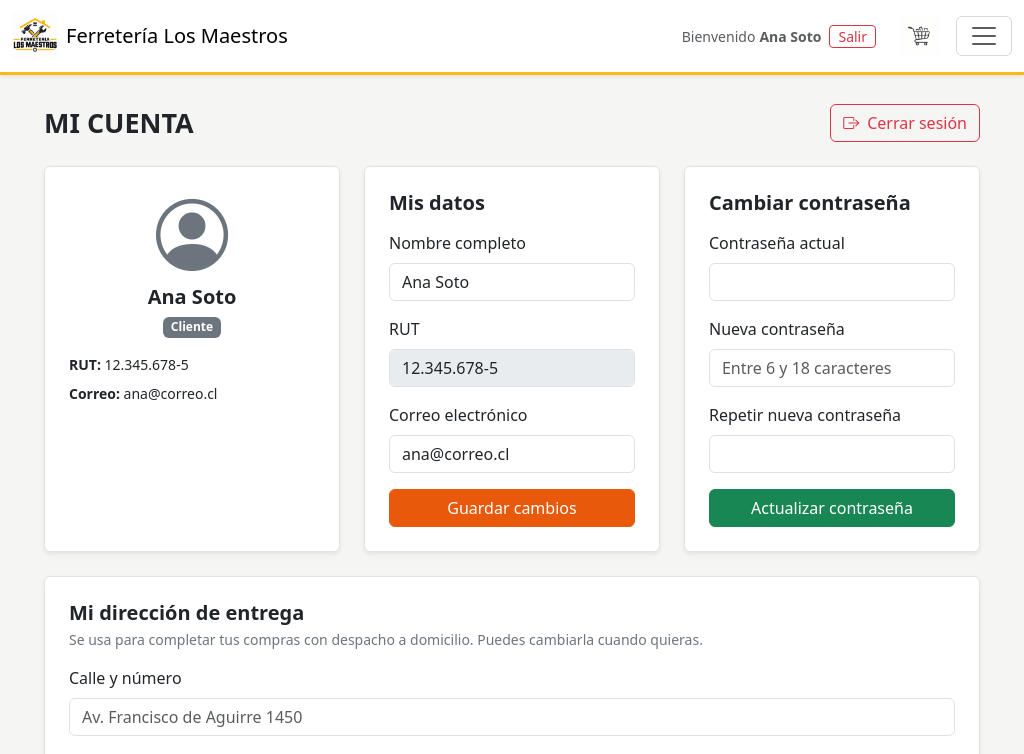
Test: Mi cuenta › no deja usar el correo de otra cuenta
This screenshot has width=1024, height=754.
Replace the text in the field labelled "Correo electrónico" with "admin@losmaestros.cl" at (512, 454), box [389,435,635,473]
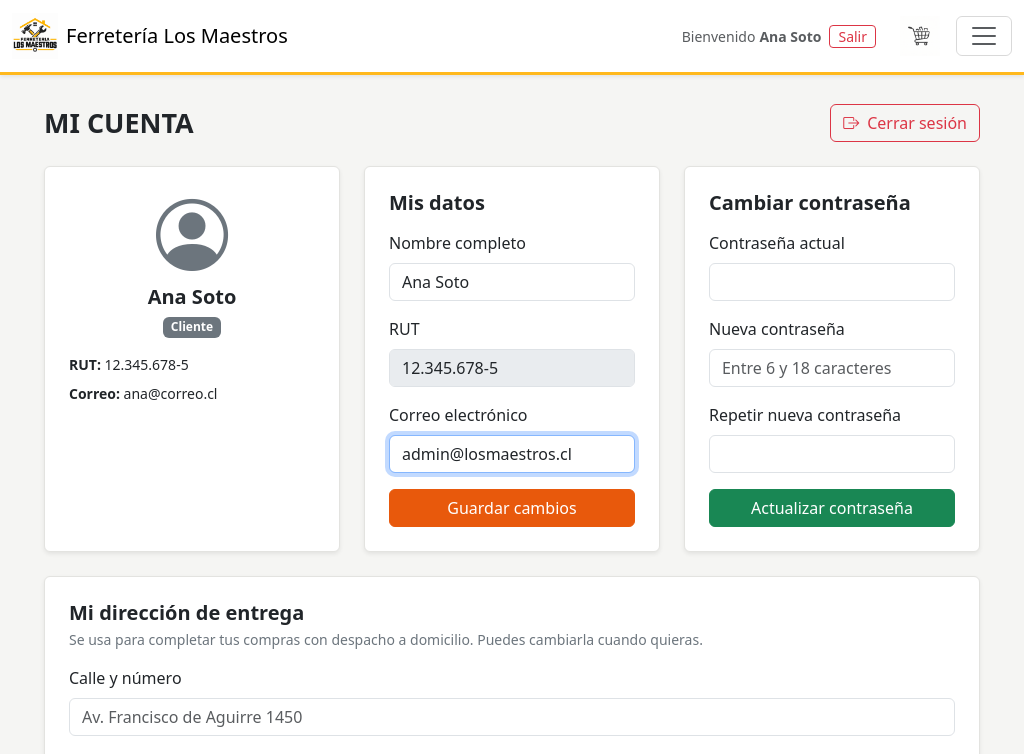
Click the button "Guardar cambios" at (512, 508), box [389,489,635,527]
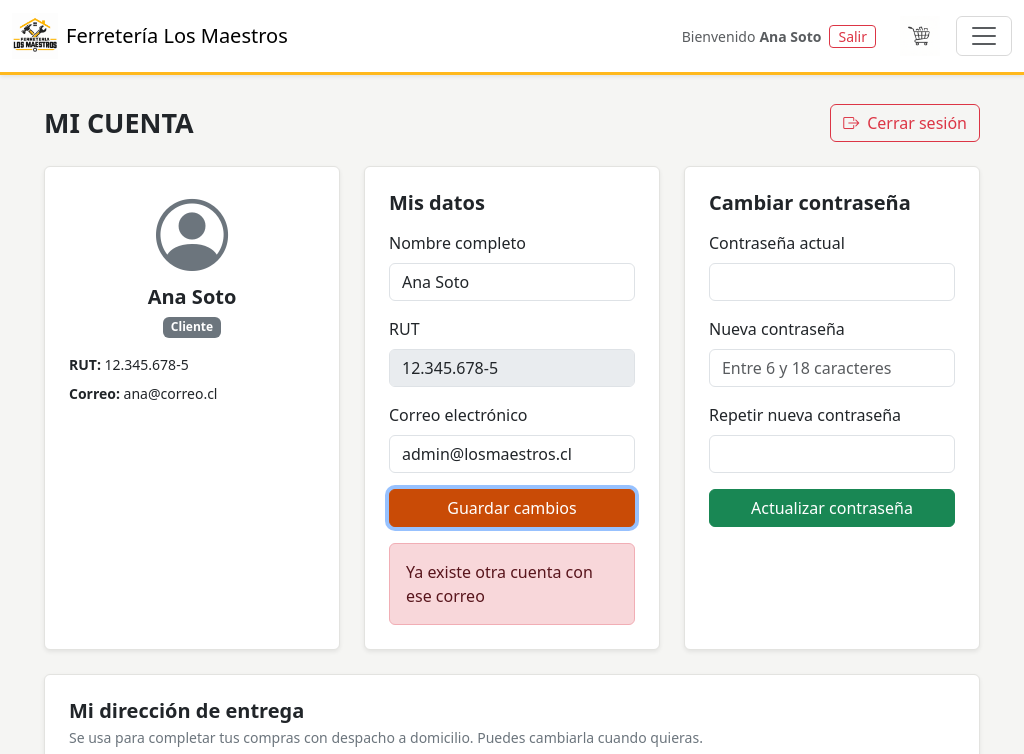
Check: the message reads "Ya existe otra cuenta con ese correo", box [406,561,593,607]
